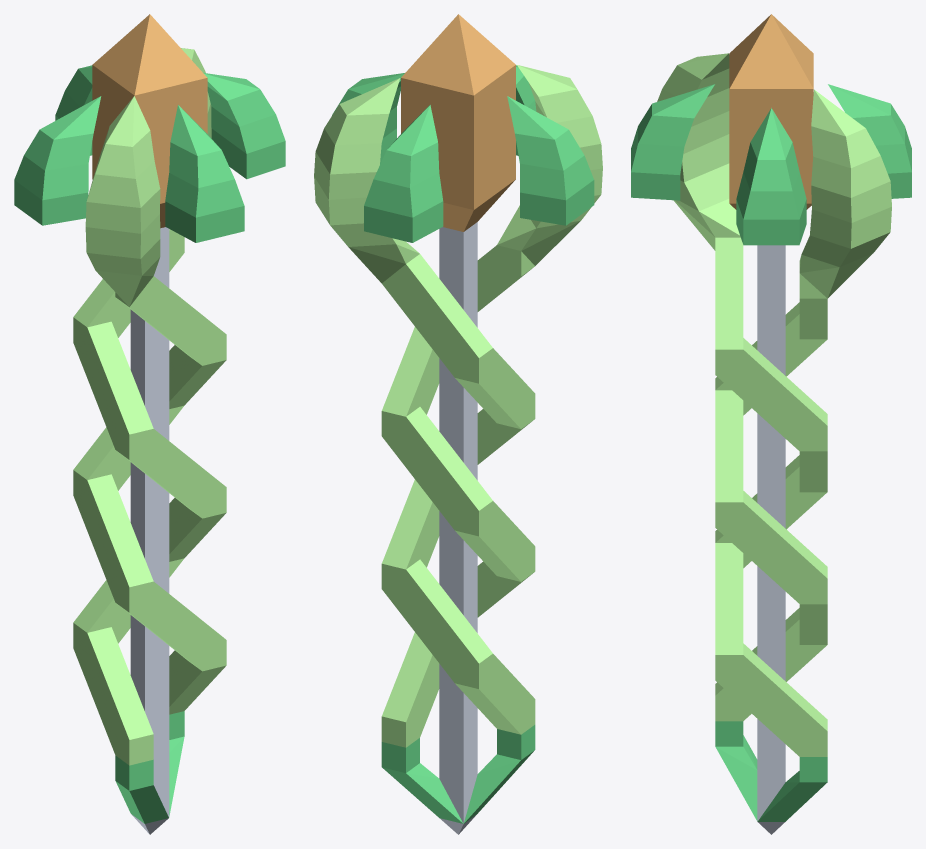
The model's file is chronon_wand.obj.
3 renders of one model, left to right at view 1: azimuth 30°, elevation 25°; view 2: azimuth 150°, elevation 25°; view 3: azimuth 270°, elevation 25°, orthographic.
Parts seen in each view (by area): view 1: 2, 1, South-West, size, Gem, South, West, East, North-East, North; view 2: 2, Gem, 1, size, North-East, South-West, North, West, East, South; view 3: 1, North-East, South-West, size, Gem, 2, East, South, North.
Boxes of the visible parts, x1=… form: 2: x1=73, y1=230, x2=184, y2=765; 1: x1=115, y1=276, x2=226, y2=714; South-West: x1=85, y1=96, x2=168, y2=823; size: x1=130, y1=227, x2=169, y2=834; Gem: x1=92, y1=14, x2=207, y2=228; South: x1=165, y1=105, x2=244, y2=242; West: x1=14, y1=96, x2=101, y2=225; East: x1=203, y1=73, x2=285, y2=179; North-East: x1=169, y1=48, x2=211, y2=815; North: x1=55, y1=65, x2=92, y2=155; 2: x1=381, y1=254, x2=535, y2=734; Gem: x1=401, y1=14, x2=515, y2=231; 1: x1=381, y1=245, x2=534, y2=747; size: x1=439, y1=222, x2=477, y2=834; North-East: x1=314, y1=78, x2=463, y2=823; South-West: x1=463, y1=65, x2=602, y2=823; North: x1=364, y1=105, x2=443, y2=242; West: x1=507, y1=96, x2=594, y2=225; East: x1=332, y1=73, x2=404, y2=164; South: x1=516, y1=65, x2=536, y2=155; 1: x1=715, y1=237, x2=827, y2=756; North-East: x1=757, y1=89, x2=891, y2=821; South-West: x1=657, y1=53, x2=757, y2=820; size: x1=757, y1=245, x2=785, y2=834; Gem: x1=729, y1=14, x2=813, y2=209; 2: x1=715, y1=273, x2=827, y2=721; East: x1=736, y1=108, x2=806, y2=245; South: x1=631, y1=84, x2=714, y2=200; North: x1=828, y1=84, x2=911, y2=198.
Size of the model in its own units: 0.625 by 2.02 by 0.625.
